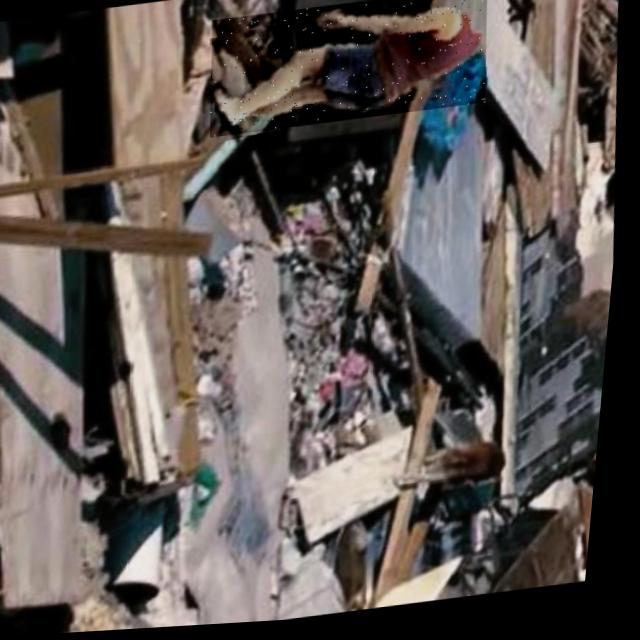Person in Rubble: (203, 0, 495, 141)
